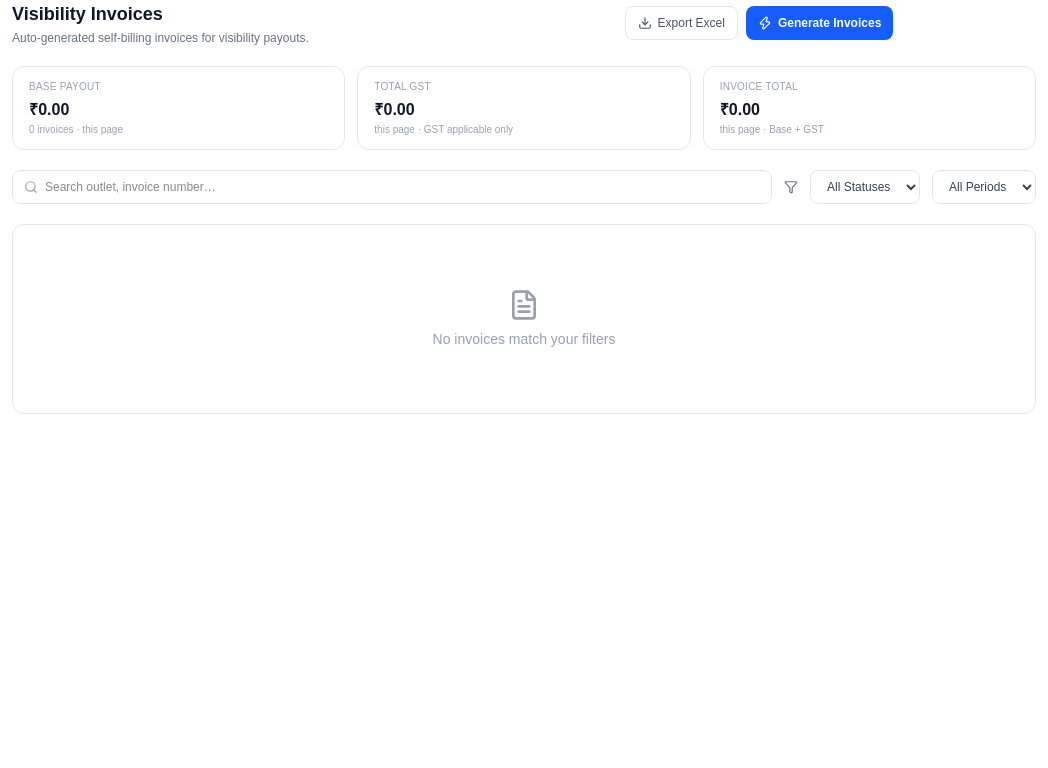
Test: ADMI — Admin Invoice list API wiring › ADMI10: Generate panel is shown when "Generate Invoices" is clicked
Expected: the text "No invoices match your filters" is shown, [433, 329, 615, 349]
Click the button "Generate Invoices": coordinates (820, 23) [746, 6, 893, 40]
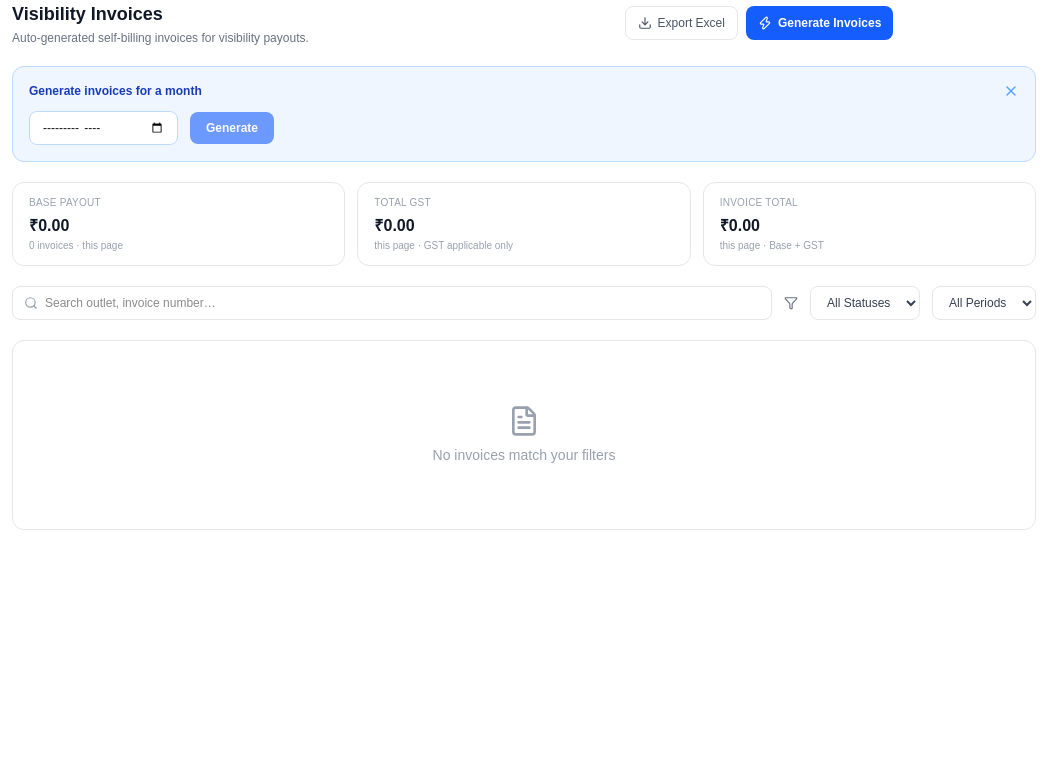
Expected: the text "Generate invoices for a month" is shown, [29, 83, 202, 99]
